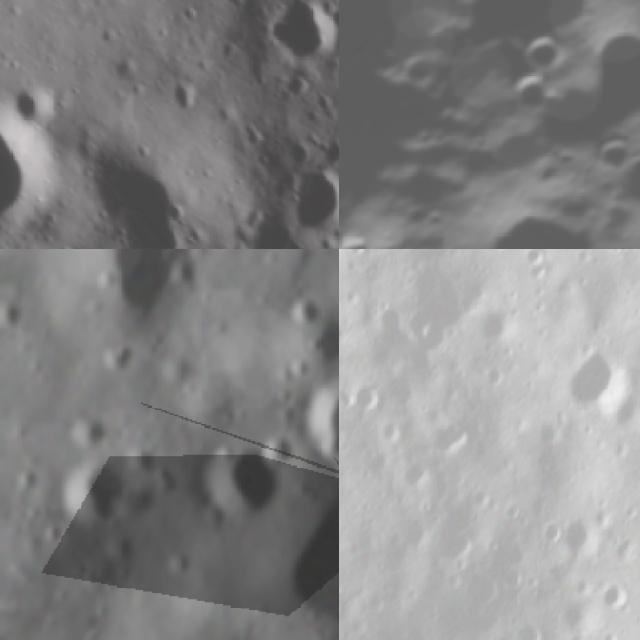crater: (339, 0, 608, 249), (45, 96, 233, 249), (0, 66, 70, 249), (444, 179, 622, 249), (188, 433, 281, 529), (259, 144, 339, 249), (250, 0, 339, 80), (48, 451, 128, 529), (554, 345, 630, 425), (0, 61, 70, 135), (291, 365, 339, 468), (495, 65, 556, 127), (154, 61, 214, 122), (506, 20, 565, 79), (389, 40, 444, 96), (181, 222, 293, 249), (429, 412, 481, 463), (582, 126, 634, 176), (471, 308, 516, 357), (396, 449, 438, 496), (59, 414, 106, 454), (339, 382, 384, 421), (143, 458, 182, 502), (309, 124, 339, 175), (596, 579, 633, 617), (6, 459, 40, 493), (100, 339, 132, 375), (284, 297, 318, 329), (89, 264, 122, 295), (164, 546, 193, 577), (505, 621, 549, 640), (37, 520, 65, 545)
